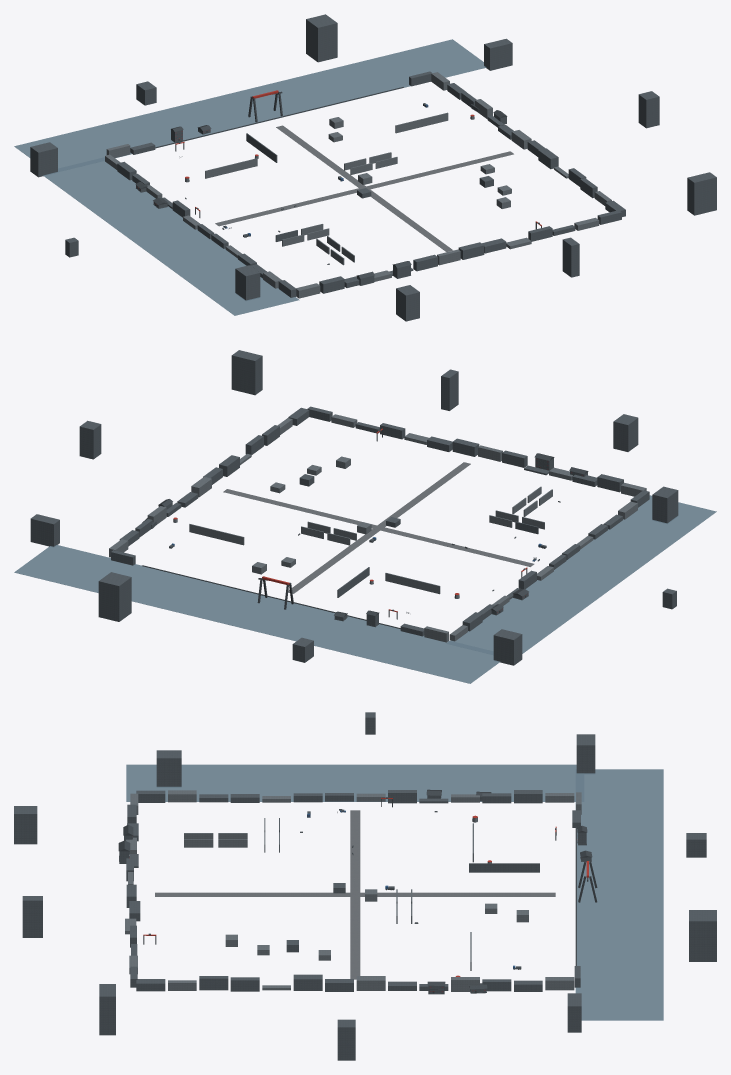
Rendered from kouwan-lod2.glb.
3 views of the same model, one above another, from view 1: azimuth 30°, elevation 25°; view 2: azimuth 150°, elevation 25°; view 3: azimuth 270°, elevation 25° (orthographic). The views are drawn at different scales.
Parts seen in each view (by area): view 1: HB_kouwan_LOD2_water, HB_kouwan_LOD2_wall_alt, HB_kouwan_LOD2_wall, HB_kouwan_LOD2_road, HB_kouwan_LOD2_trim; view 2: HB_kouwan_LOD2_water, HB_kouwan_LOD2_wall_alt, HB_kouwan_LOD2_wall, HB_kouwan_LOD2_road, HB_kouwan_LOD2_trim; view 3: HB_kouwan_LOD2_water, HB_kouwan_LOD2_wall_alt, HB_kouwan_LOD2_wall, HB_kouwan_LOD2_road, HB_kouwan_LOD2_trim.
Part boxes in pixels (box(x1,y1,x2,y2)): HB_kouwan_LOD2_water: box(14, 39, 486, 315); HB_kouwan_LOD2_wall_alt: box(30, 14, 716, 321); HB_kouwan_LOD2_wall: box(105, 72, 611, 298); HB_kouwan_LOD2_road: box(215, 125, 513, 251); HB_kouwan_LOD2_trim: box(135, 87, 541, 278); HB_kouwan_LOD2_water: box(14, 495, 716, 683); HB_kouwan_LOD2_wall_alt: box(30, 350, 678, 665); HB_kouwan_LOD2_wall: box(109, 414, 646, 642); HB_kouwan_LOD2_road: box(223, 462, 534, 593); HB_kouwan_LOD2_trim: box(142, 430, 588, 628); HB_kouwan_LOD2_water: box(126, 764, 663, 1020); HB_kouwan_LOD2_wall_alt: box(14, 712, 716, 1060); HB_kouwan_LOD2_wall: box(125, 790, 581, 991); HB_kouwan_LOD2_road: box(155, 810, 555, 979); HB_kouwan_LOD2_trim: box(118, 789, 597, 993).
Bounding box in the file's own units: 641 × 36.58 × 575.
Materials: 8 (6 with a texture image).
